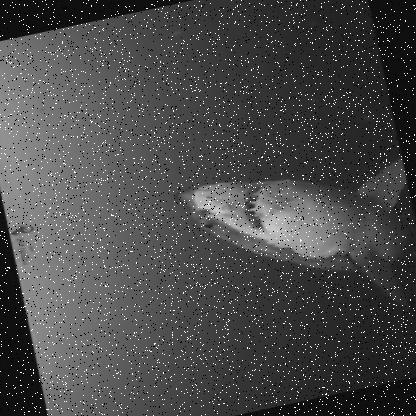white-shark: (169, 142, 415, 350)
